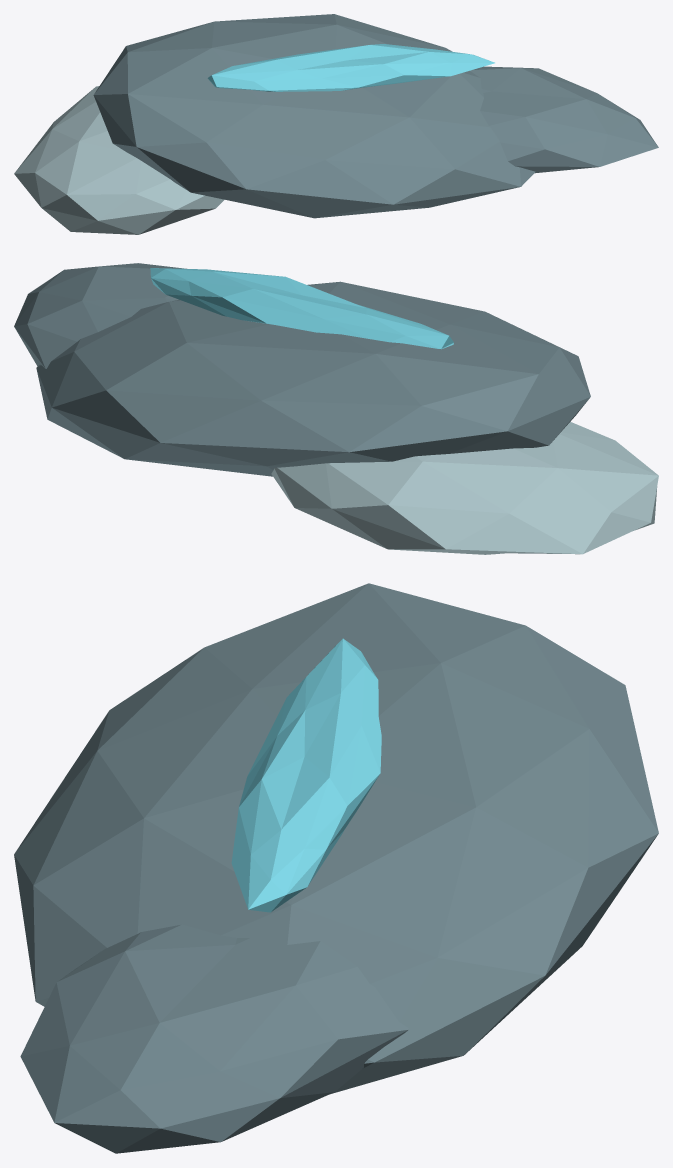
Rendered from rime_chitin_pickup_v1.glb.
3 views of the same model, one above another, from view 1: azimuth 30°, elevation 25°; view 2: azimuth 150°, elevation 25°; view 3: azimuth 270°, elevation 25° (orthographic). The views are drawn at different scales.
Parts seen in each view (by area): view 1: BroadCarapacePlate, WeatheredSidePlate, NarrowCarapacePlate, FrostVein; view 2: BroadCarapacePlate, WeatheredSidePlate, FrostVein, NarrowCarapacePlate; view 3: BroadCarapacePlate, NarrowCarapacePlate, FrostVein.
Part boxes in pixels (left/top/right/bottom): BroadCarapacePlate: left=93, top=14, right=535, bottom=218; WeatheredSidePlate: left=14, top=86, right=224, bottom=234; NarrowCarapacePlate: left=470, top=66, right=658, bottom=173; FrostVein: left=207, top=44, right=494, bottom=91; BroadCarapacePlate: left=36, top=281, right=590, bottom=476; WeatheredSidePlate: left=271, top=422, right=658, bottom=554; FrostVein: left=150, top=268, right=453, bottom=349; NarrowCarapacePlate: left=14, top=263, right=186, bottom=368; BroadCarapacePlate: left=14, top=583, right=658, bottom=1094; NarrowCarapacePlate: left=20, top=924, right=408, bottom=1153; FrostVein: left=231, top=638, right=381, bottom=912.
Size of the model in its own units: 1.44 by 0.3211 by 0.8584.
